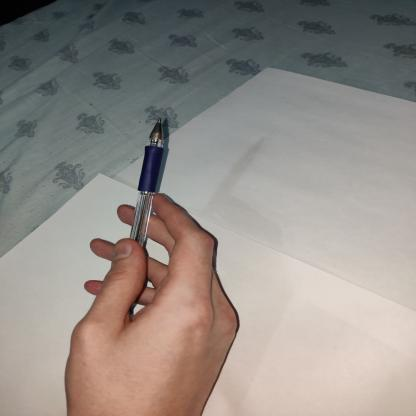pen: (130, 103, 164, 361)
